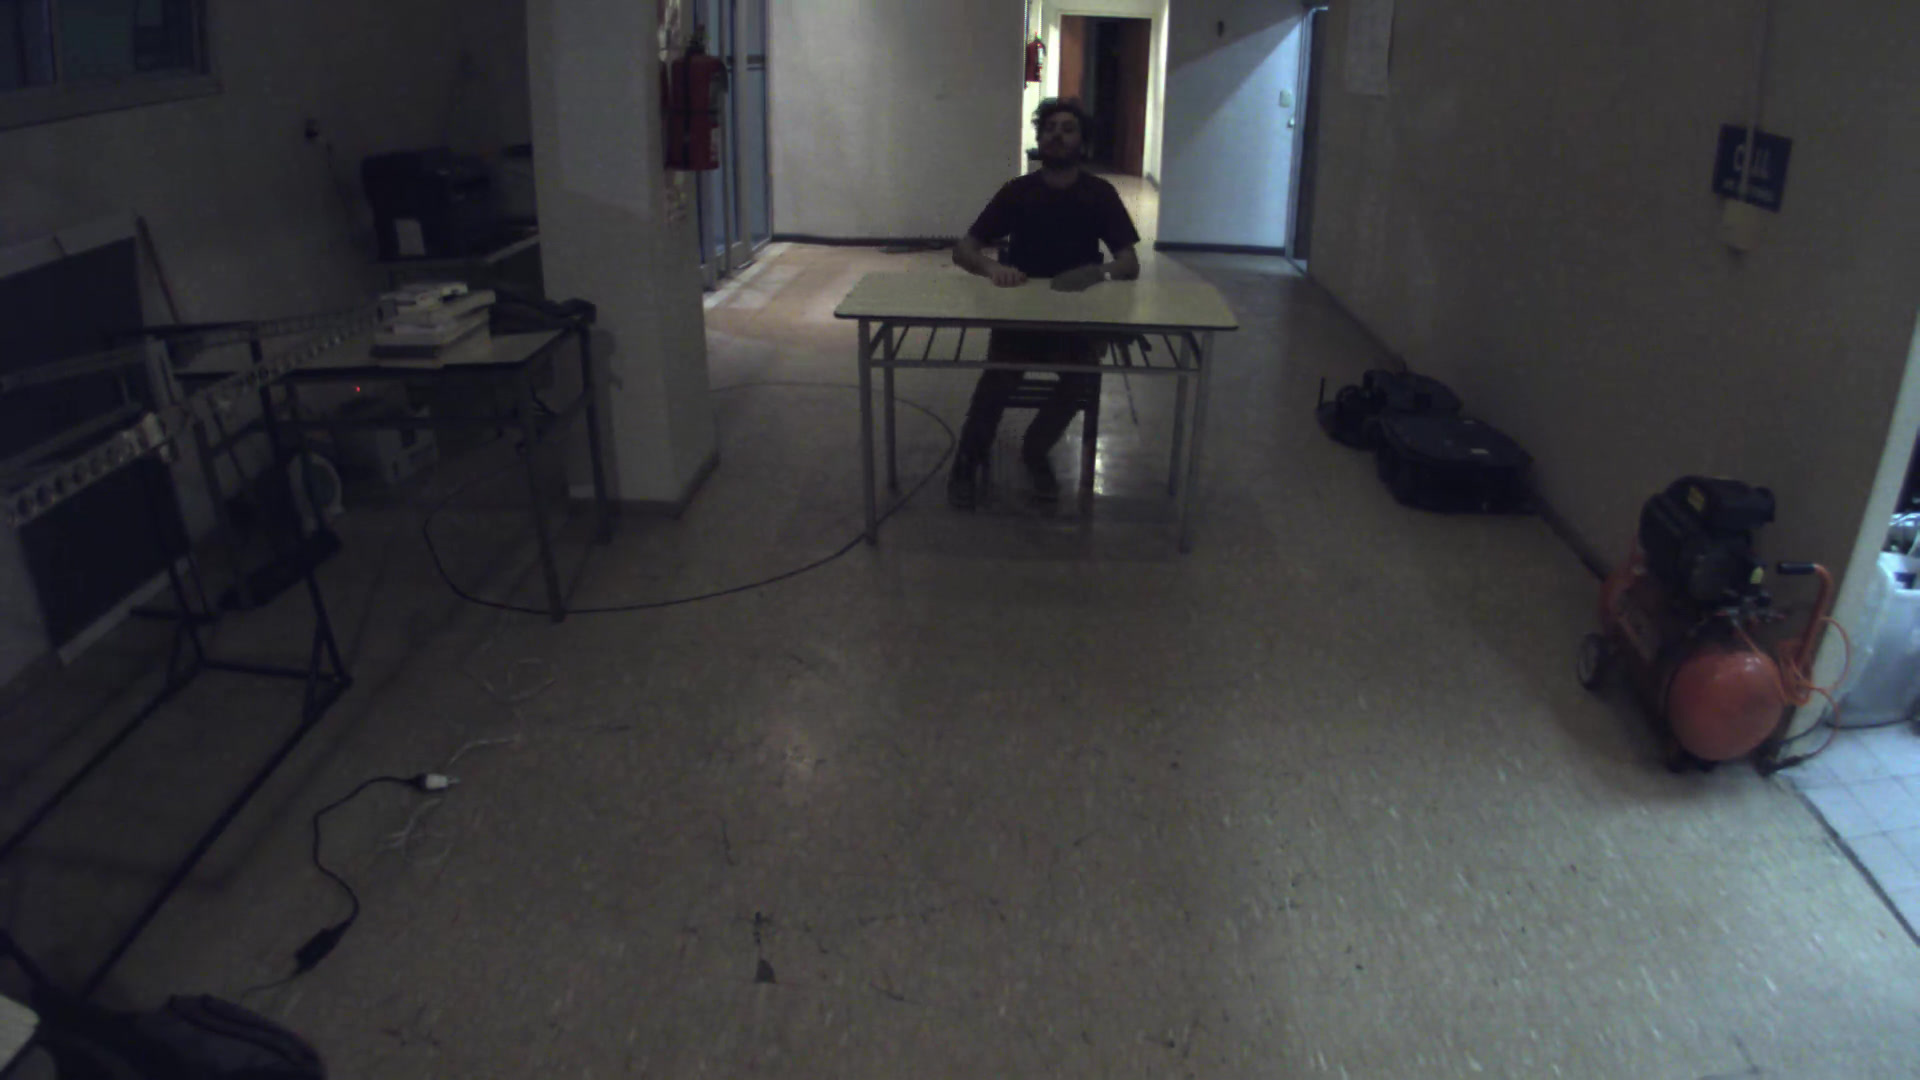hand: (1051, 255, 1109, 298), (985, 257, 1029, 291)
